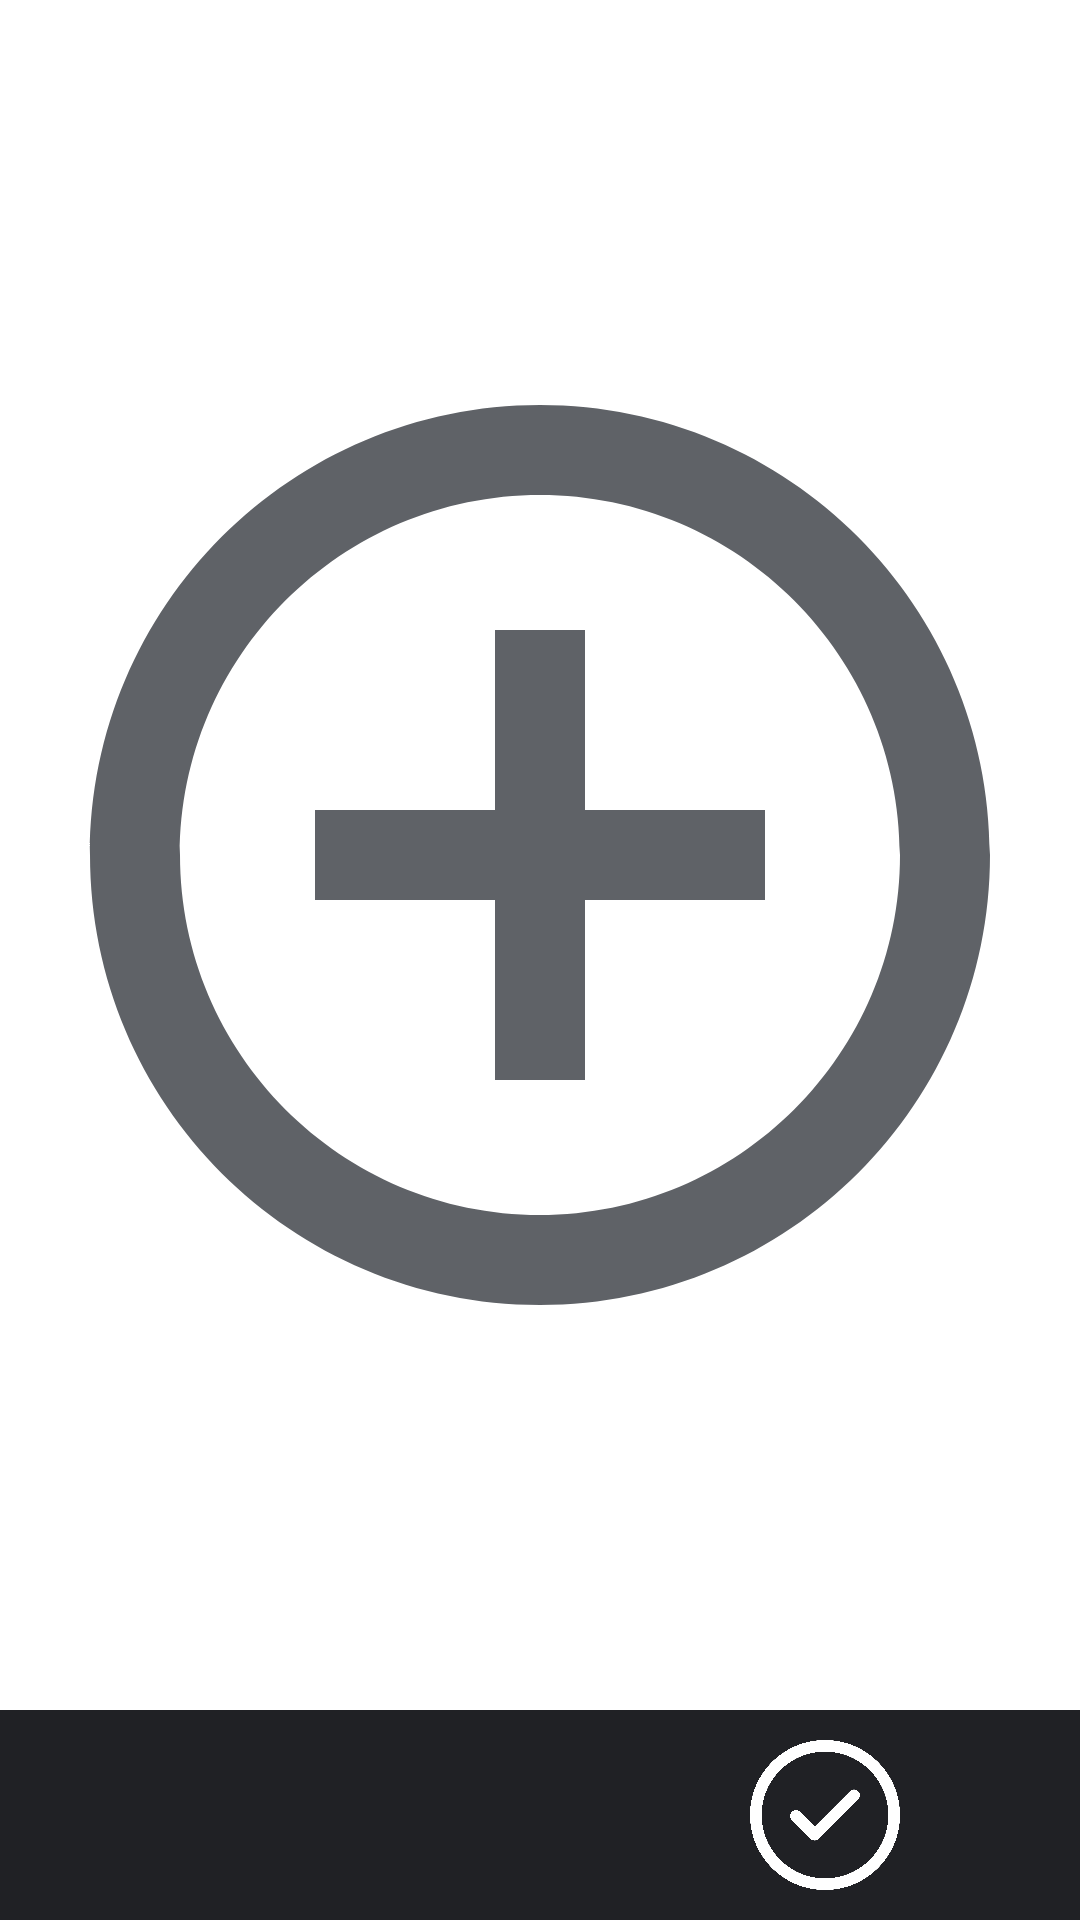

Screen size 1080*1920. Icon name, then its center in pixels as point (x, y):
correct: point (825, 1815)
